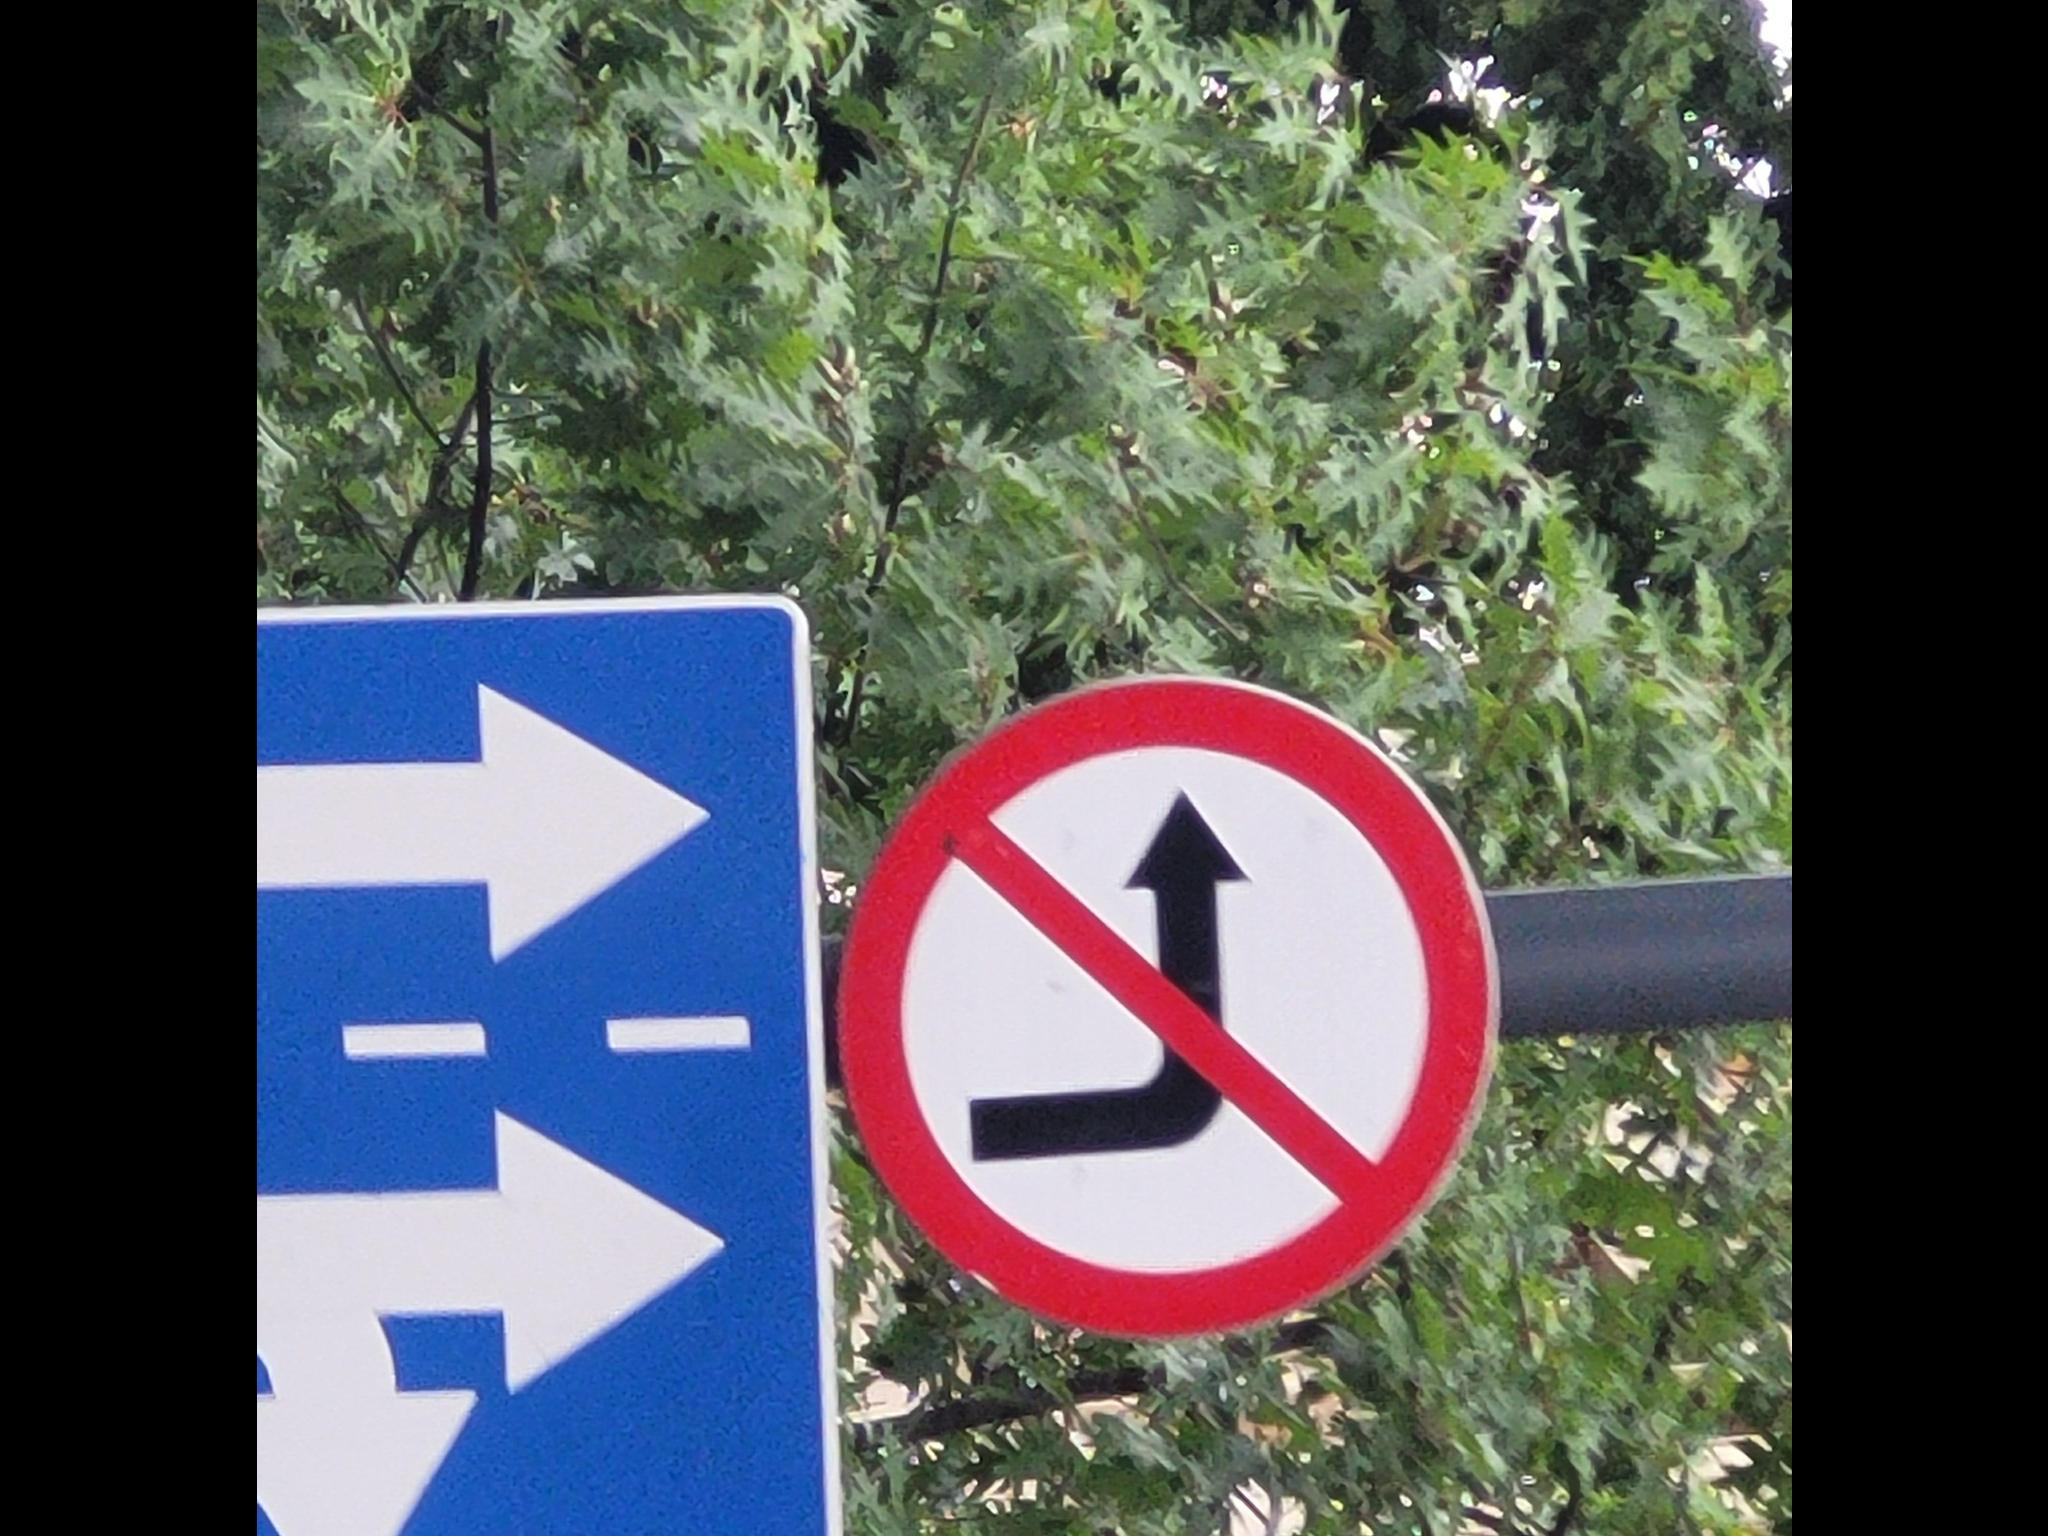other: (256, 602, 811, 1536)
prohibitory: (827, 671, 1503, 1339)
